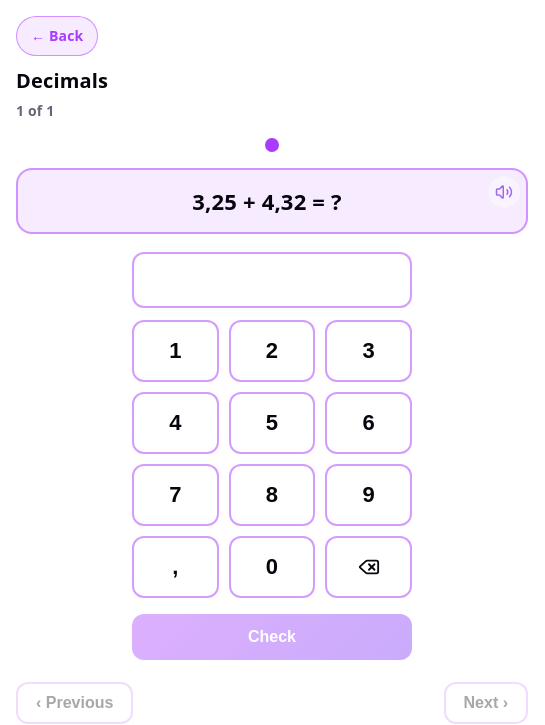
Test: BundlePlayer — decimal entry › shows Try again on a wrong decimal answer
Expected: the text "3,25 + 4,32 = ?" is shown, [192, 188, 342, 214]
What coordinates should you click on to do the following:
click the button "9"
I would click on:
 (369, 495)
Its box is [325, 464, 412, 526].
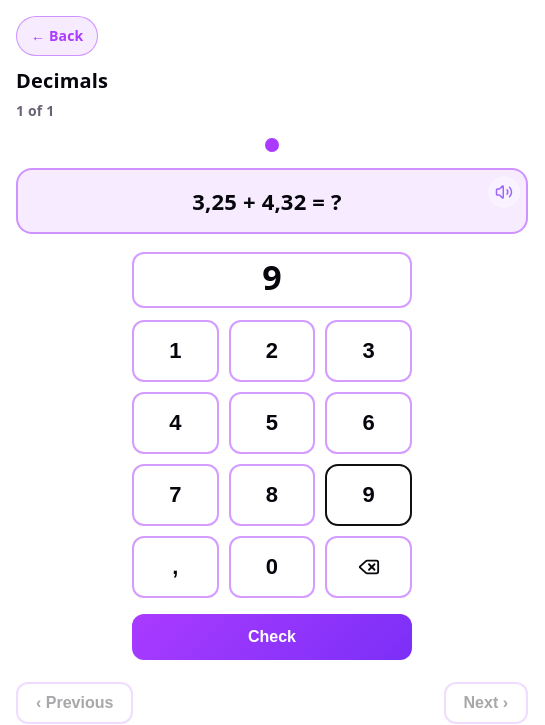
What coordinates should you click on to do the following:
click the button "Check"
I would click on:
 (272, 637)
Its box is [132, 614, 412, 660].
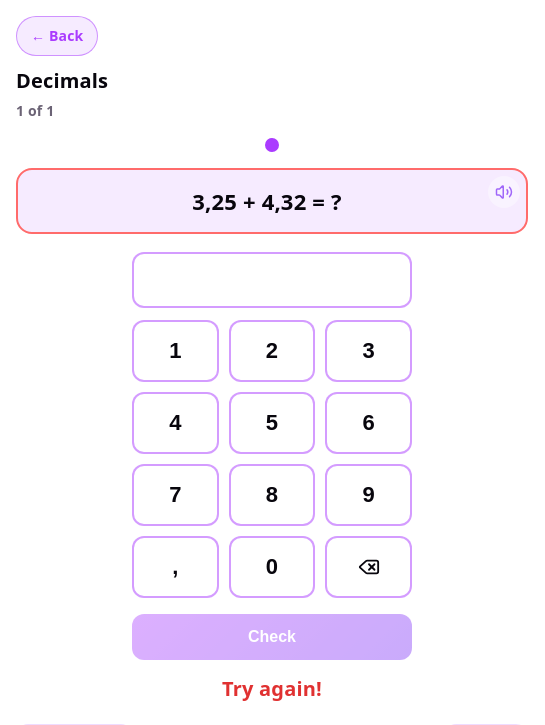
Result: the text "Try again!" is shown at [222, 675, 322, 702]
